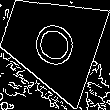O_W: (23, 13, 78, 71)
